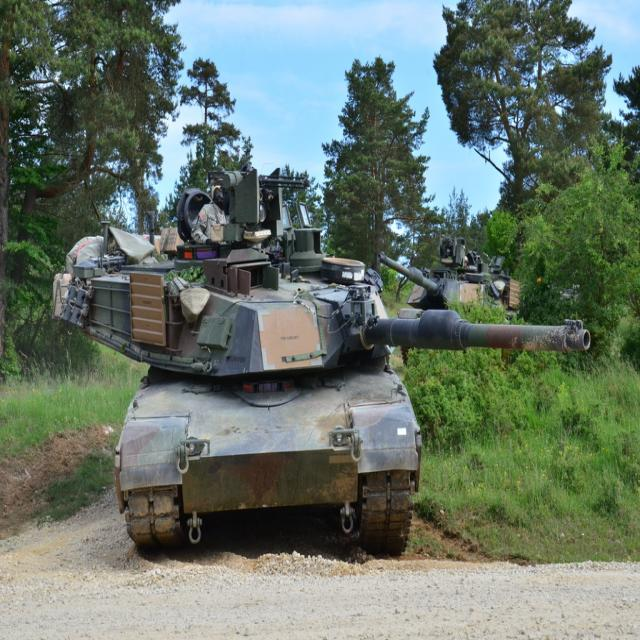tank: (52, 168, 590, 542), (377, 236, 520, 365)
